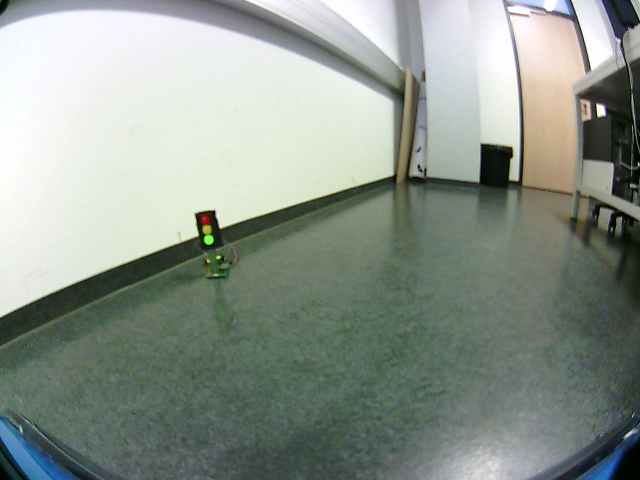green trafficlight: (196, 212, 219, 248)
